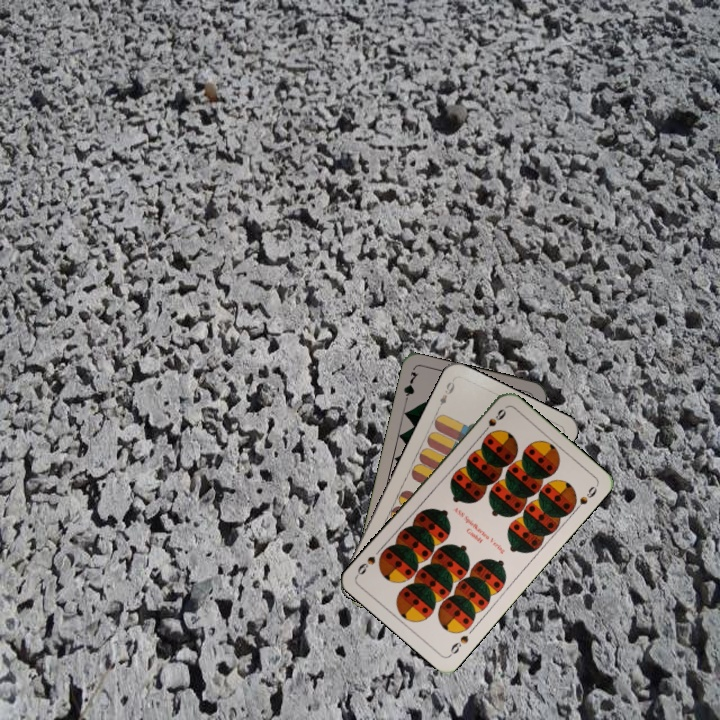E9: (433, 378, 457, 413)
G7: (399, 368, 421, 407)
S9: (477, 404, 509, 438), (445, 631, 471, 659)
